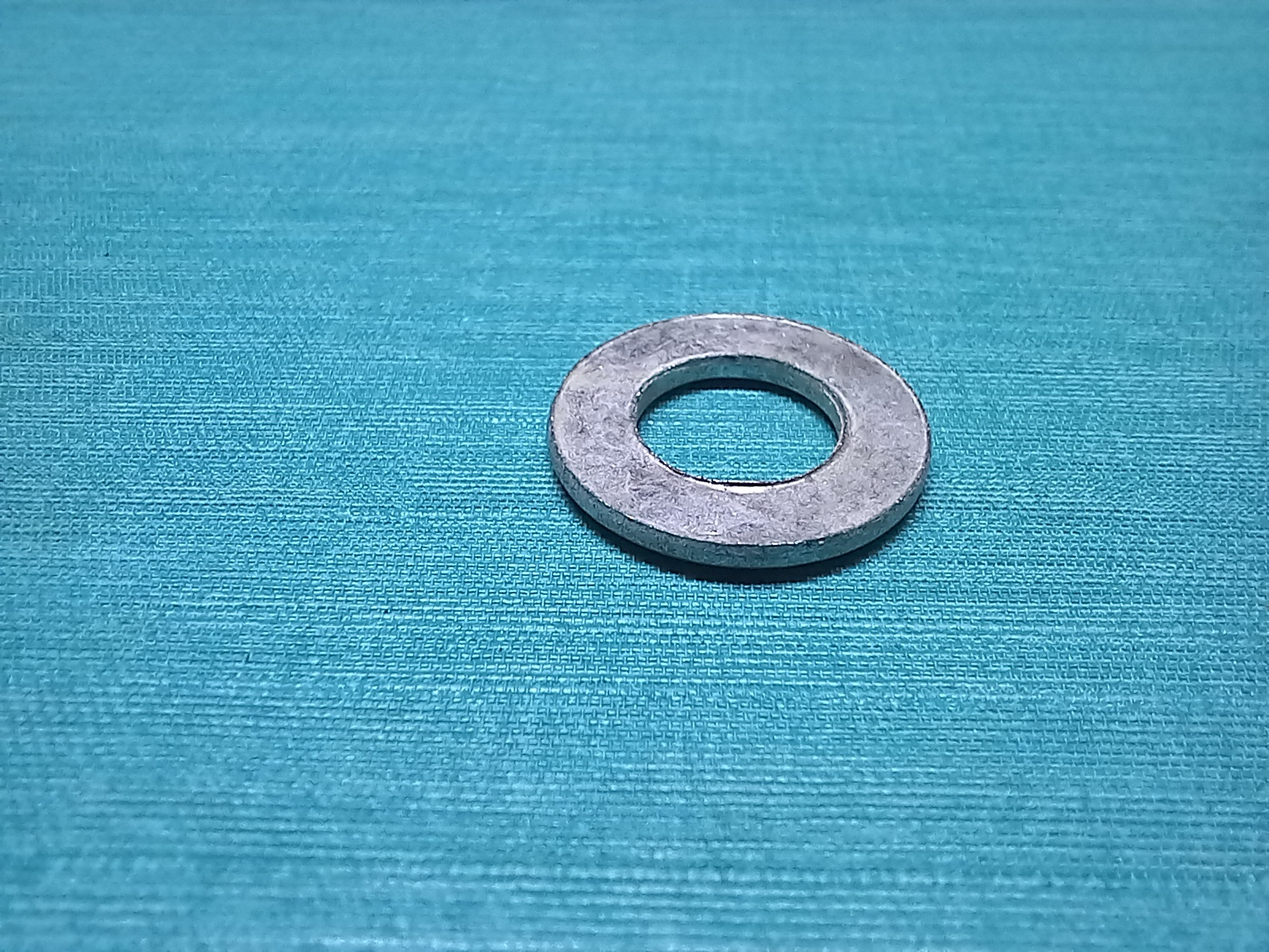washer: (493, 253, 932, 654)
